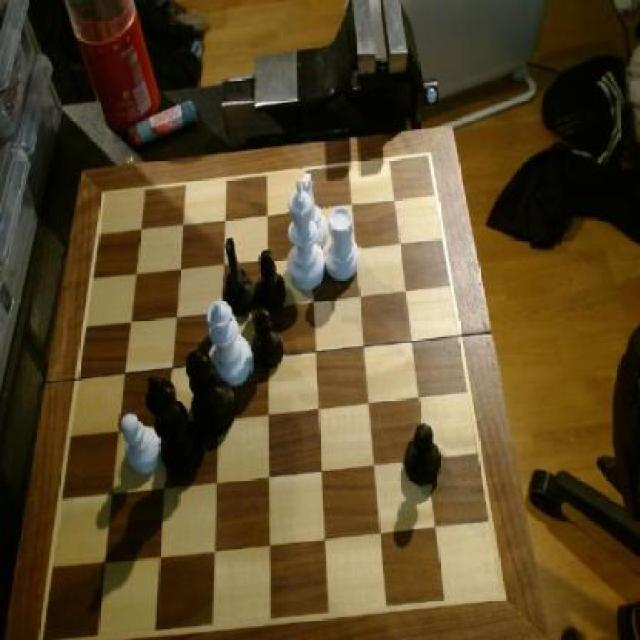black-bishop: (143, 372, 208, 483)
black-king: (218, 237, 254, 315), (299, 166, 326, 248)
black-knight: (400, 418, 445, 492), (251, 305, 286, 376), (256, 248, 288, 315)
black-pawn: (188, 352, 237, 433)
white-bishop: (284, 179, 328, 293)
white-knight: (118, 411, 164, 482)
white-pawn: (208, 298, 255, 388)
white-queen: (325, 206, 362, 289)
